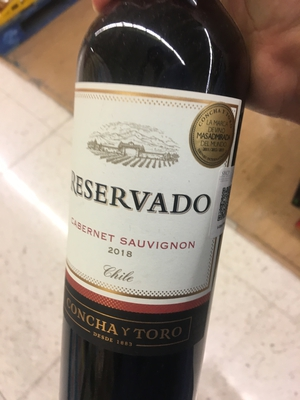reservado cabernet sauvignon: (67, 10, 237, 400)
